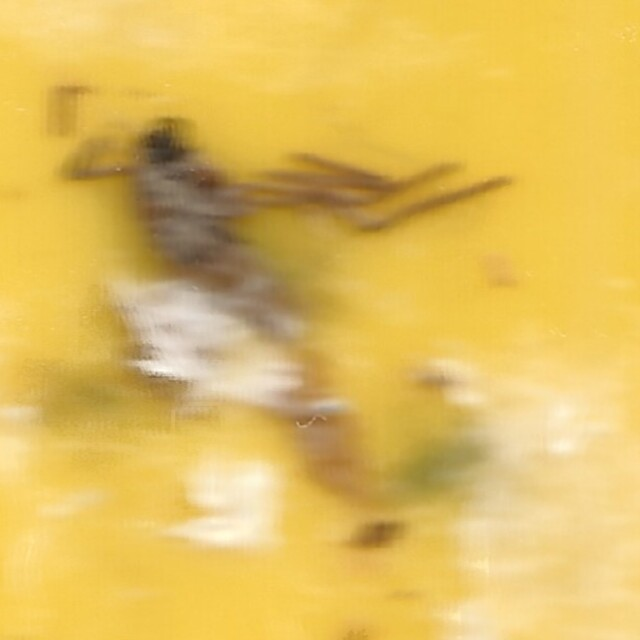Nematocera: (105, 98, 535, 542)
